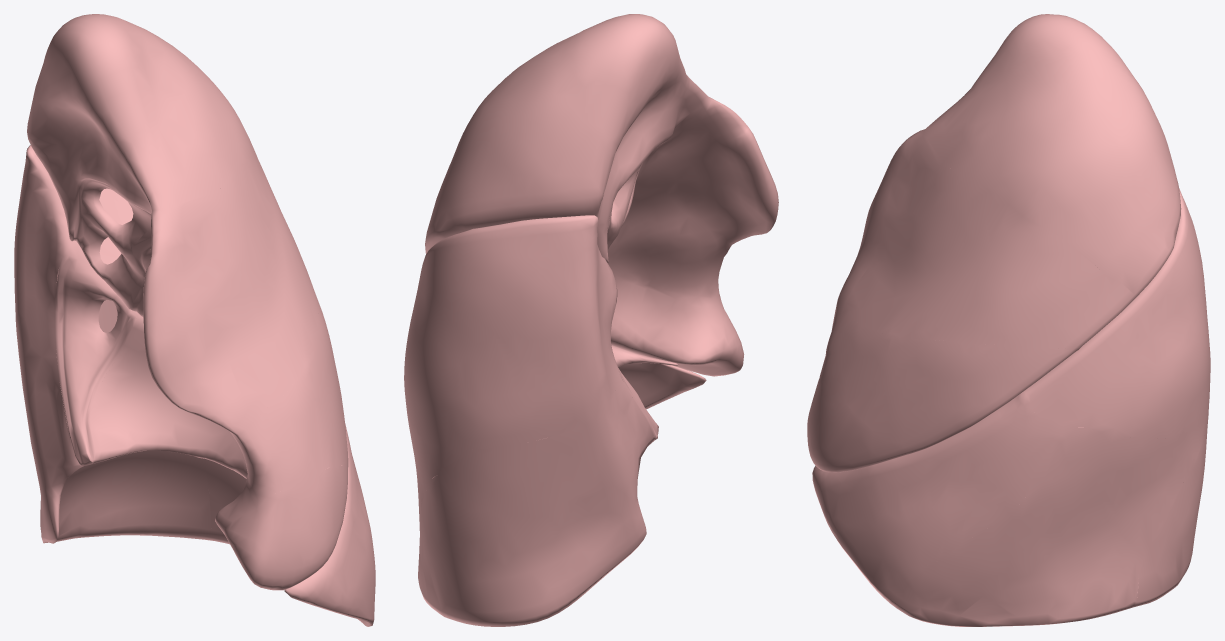
File: pulmao-esquerdo.glb
3 views of the same model, side by side, from view 1: azimuth 30°, elevation 25°; view 2: azimuth 150°, elevation 25°; view 3: azimuth 270°, elevation 25° (orthographic). The views are drawn at different scales.
Visible parts, largest first — view 1: Superior lobe of left lung, Inferior lobe of left lung; view 2: Inferior lobe of left lung, Superior lobe of left lung; view 3: Superior lobe of left lung, Inferior lobe of left lung.
Part boxes in pixels (bbox=[...]): Superior lobe of left lung: bbox=[27, 14, 348, 590]; Inferior lobe of left lung: bbox=[14, 145, 375, 626]; Inferior lobe of left lung: bbox=[404, 215, 706, 626]; Superior lobe of left lung: bbox=[425, 14, 778, 376]; Superior lobe of left lung: bbox=[807, 14, 1181, 472]; Inferior lobe of left lung: bbox=[812, 189, 1210, 626].
Size of the model in its own units: 0.121 by 0.264 by 0.1843.
